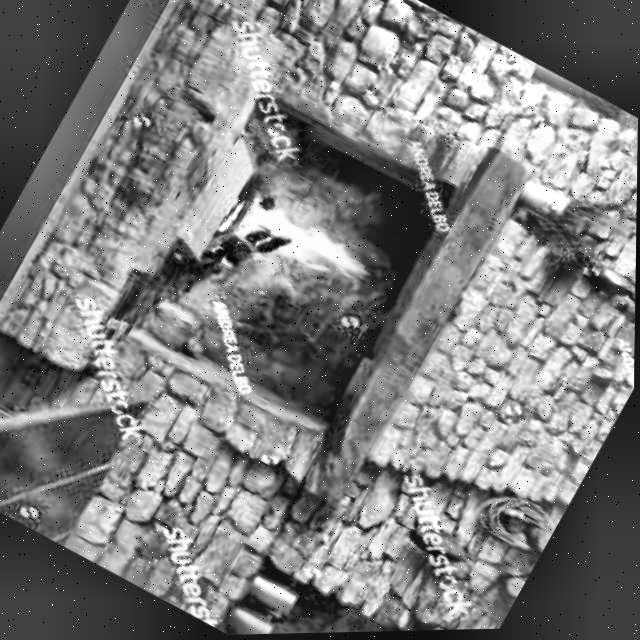Fire: (210, 181, 382, 320)
